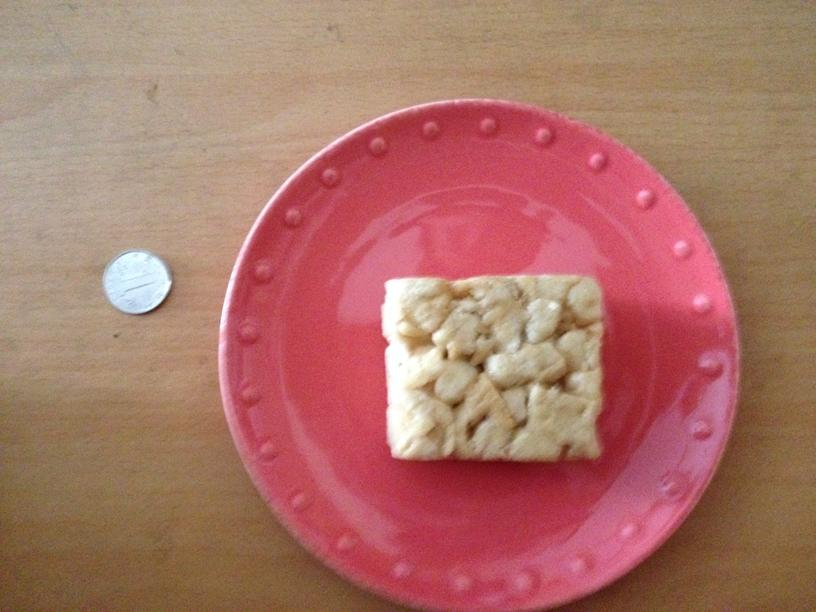coin: (101, 249, 173, 314)
sachima: (375, 277, 607, 458)
